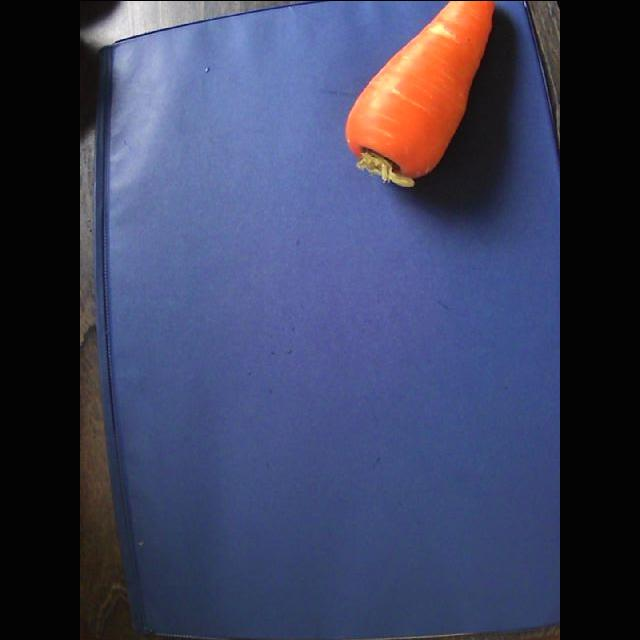zanahoria: (345, 1, 493, 187)
